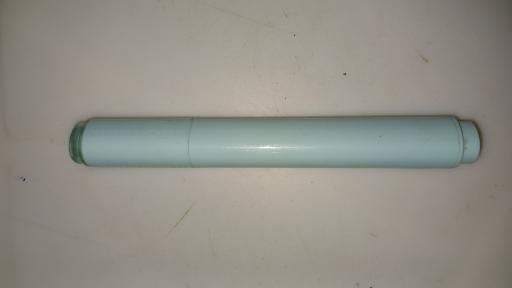Highlighter: (68, 116, 482, 167)
